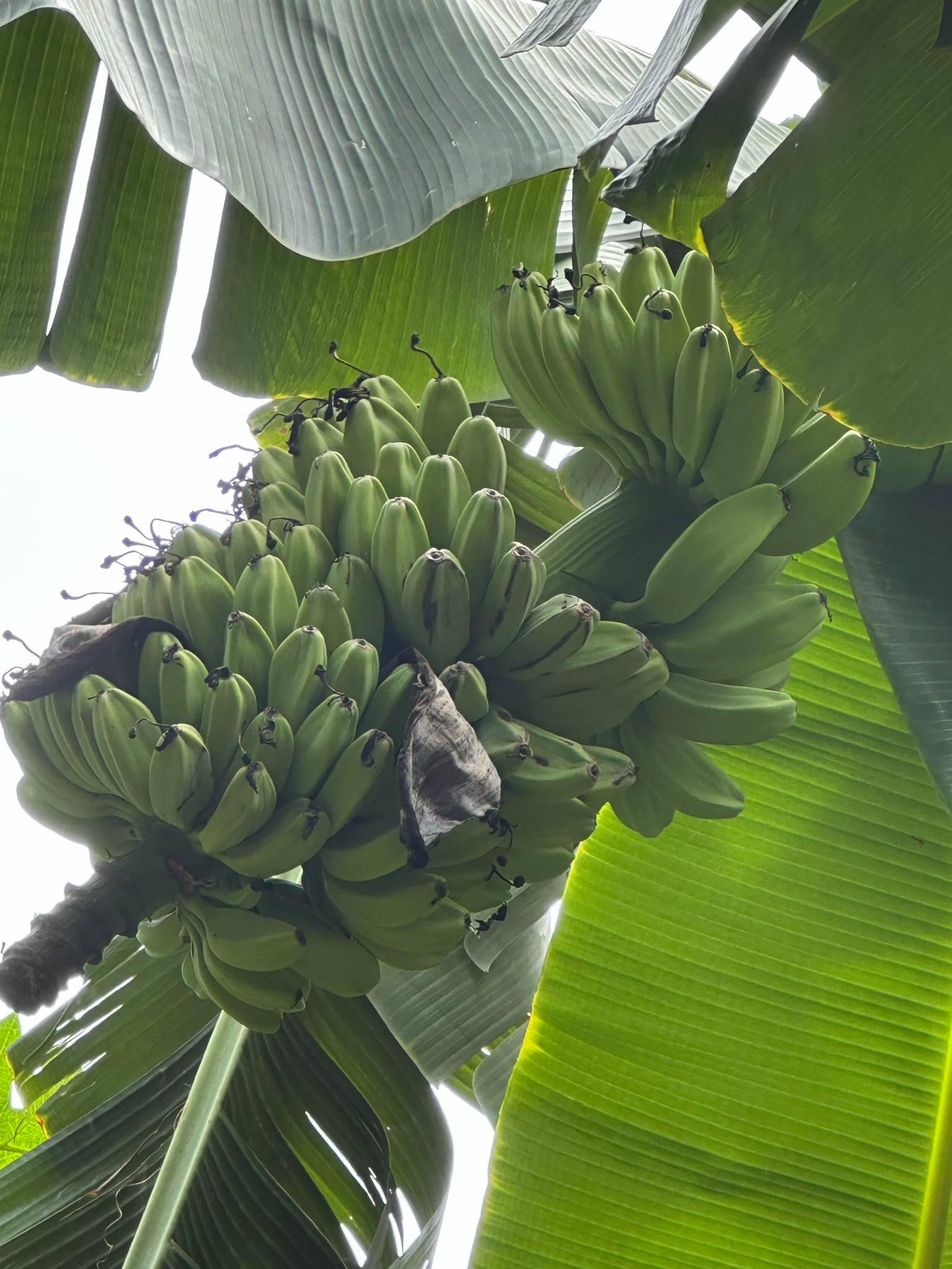underripe: (2, 374, 665, 968), (492, 247, 878, 556), (613, 485, 827, 837), (138, 880, 379, 1031)
